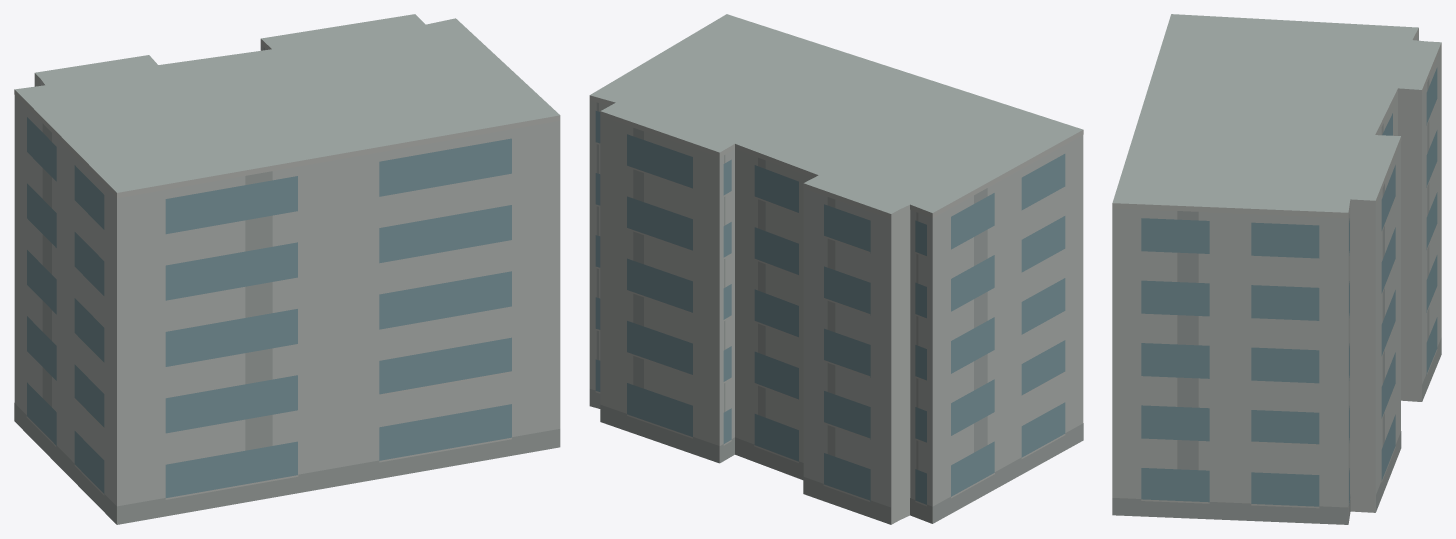
The model's file is survey-upis-32893519.glb.
3 views of the same model, side by side, from view 1: azimuth 30°, elevation 25°; view 2: azimuth 150°, elevation 25°; view 3: azimuth 270°, elevation 25° (orthographic). The views are drawn at different scales.
Parts seen in each view (by area): view 1: survey-upis-32893519.tmp; view 2: survey-upis-32893519.tmp; view 3: survey-upis-32893519.tmp.
Part boxes in pixels (bbox=[...]): survey-upis-32893519.tmp: bbox=[14, 14, 560, 524]; survey-upis-32893519.tmp: bbox=[589, 14, 1083, 524]; survey-upis-32893519.tmp: bbox=[1112, 14, 1441, 524].
Bounding box in the file's own units: 20.22 × 14.8 × 14.16.
